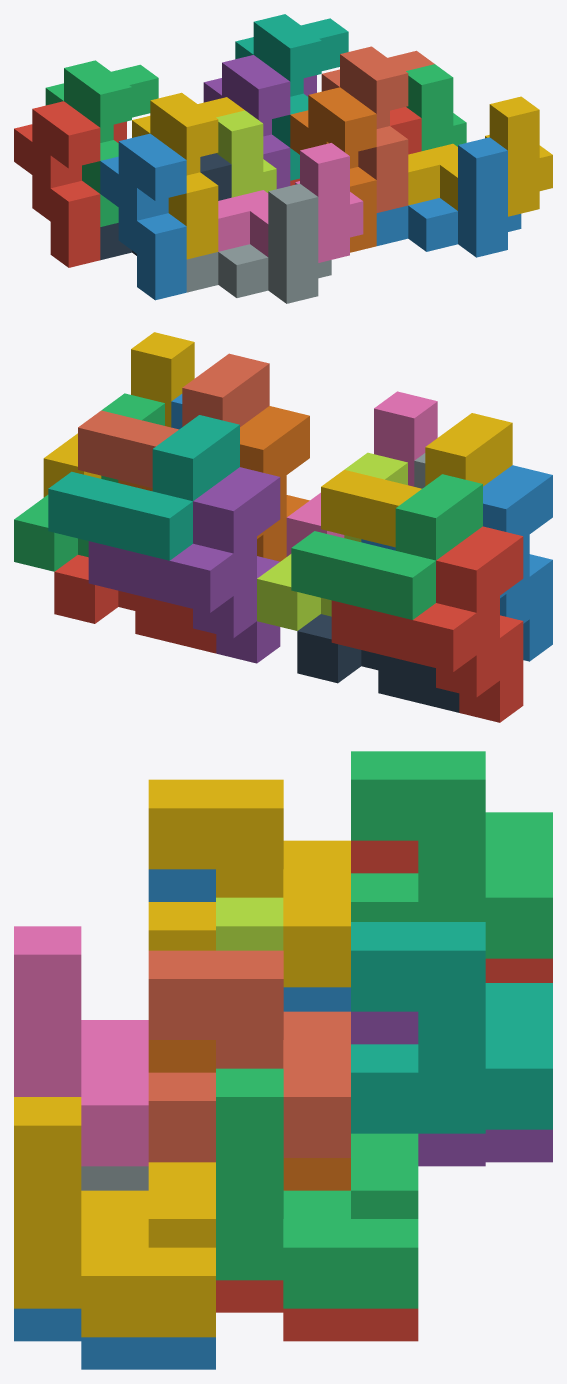
Rendered from tiling.obj.
3 renders of one model, top to bottom at view 1: azimuth 30°, elevation 25°; view 2: azimuth 150°, elevation 25°; view 3: azimuth 270°, elevation 25°, orthographic. The views are drawn at different scales.
Parts seen in each view (by area): view 1: copy_1_domain_1, copy_1_domain_2, copy_2_domain_2, copy_2_domain_6, copy_2_domain_4, copy_2_domain_8, copy_1_domain_8, copy_1_domain_4, copy_1_domain_3, copy_1_domain_7, copy_1_domain_6, copy_1_domain_5 (+4 smaller); view 2: copy_1_domain_1, copy_1_domain_5, copy_1_domain_3, copy_1_domain_7, copy_1_domain_4, copy_1_domain_8, copy_1_domain_2, copy_2_domain_5, copy_2_domain_1, copy_1_domain_6, copy_2_domain_8, copy_2_domain_4 (+2 smaller); view 3: copy_1_domain_7, copy_2_domain_8, copy_2_domain_7, copy_1_domain_3, copy_1_domain_8, copy_1_domain_4, copy_2_domain_4, copy_1_domain_5, copy_2_domain_5, copy_2_domain_6, copy_1_domain_6, copy_1_domain_1 (+3 smaller).
Boxes of the visible parts, box(x1,y1,x2,y2) form: copy_1_domain_1: box(14, 101, 126, 267); copy_1_domain_2: box(100, 133, 186, 300); copy_2_domain_2: box(186, 183, 331, 303); copy_2_domain_6: box(376, 137, 521, 257); copy_2_domain_4: box(218, 143, 363, 262); copy_2_domain_8: box(408, 96, 552, 216); copy_1_domain_8: box(321, 46, 434, 212); copy_1_domain_4: box(132, 92, 244, 259); copy_1_domain_3: box(45, 60, 158, 226); copy_1_domain_7: box(235, 14, 348, 180); copy_1_domain_6: box(290, 87, 376, 252); copy_1_domain_5: box(203, 55, 316, 188); copy_1_domain_1: box(331, 526, 523, 722); copy_1_domain_5: box(88, 467, 280, 663); copy_1_domain_3: box(291, 474, 482, 619); copy_1_domain_7: box(48, 415, 239, 560); copy_1_domain_4: box(321, 413, 512, 547); copy_1_domain_8: box(78, 353, 269, 487); copy_1_domain_2: box(361, 465, 552, 661); copy_2_domain_5: box(54, 555, 216, 653); copy_2_domain_1: box(297, 614, 459, 712); copy_1_domain_6: box(118, 406, 309, 561); copy_2_domain_8: box(43, 332, 194, 497); copy_2_domain_4: box(286, 391, 437, 556); copy_1_domain_7: box(351, 922, 552, 1133); copy_2_domain_8: box(14, 1097, 215, 1337); copy_2_domain_7: box(216, 1068, 418, 1308); copy_1_domain_3: box(351, 751, 552, 958); copy_1_domain_8: box(148, 950, 350, 1162); copy_1_domain_4: box(148, 779, 350, 987); copy_2_domain_4: box(14, 926, 148, 1166); copy_1_domain_5: box(351, 1011, 552, 1166); copy_2_domain_5: box(216, 1280, 418, 1341); copy_2_domain_6: box(14, 1308, 215, 1369); copy_1_domain_6: box(148, 1040, 350, 1190); copy_1_domain_1: box(351, 840, 552, 982).
Bounding box in the file's own units: 13 × 5 × 8.
